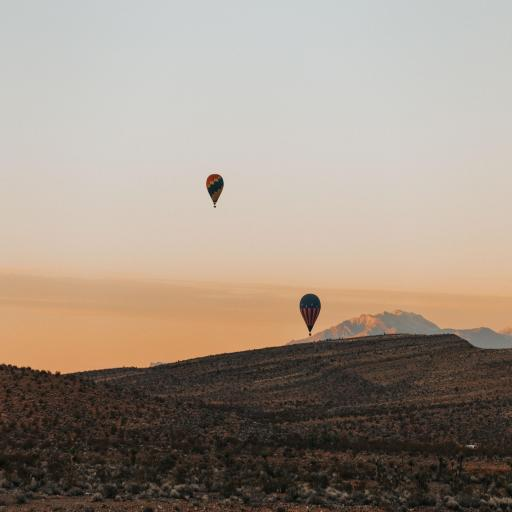hot air ballon: (299, 294, 321, 336), (207, 174, 224, 207)
